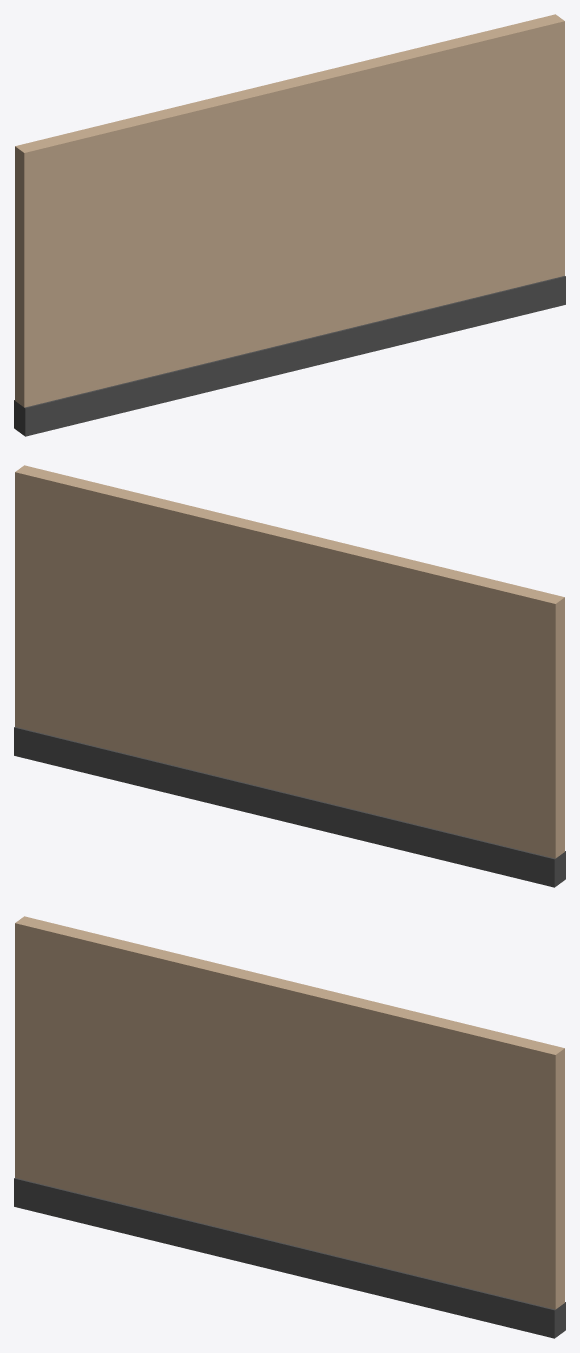
Rendered from wall_03.gltf.
3 renders of one model, top to bottom at view 1: azimuth 30°, elevation 25°; view 2: azimuth 150°, elevation 25°; view 3: azimuth 330°, elevation 25°, orthographic.
Visible parts, largest first — view 1: Wall_03; view 2: Wall_03; view 3: Wall_03.
Part boxes in pixels (x1=…): Wall_03: x1=14, y1=14, x2=565, y2=436; Wall_03: x1=14, y1=465, x2=565, y2=887; Wall_03: x1=14, y1=916, x2=565, y2=1338.
Bounding box in the file's own units: 10 × 5 × 0.3642.
1 material, 1 textured.
